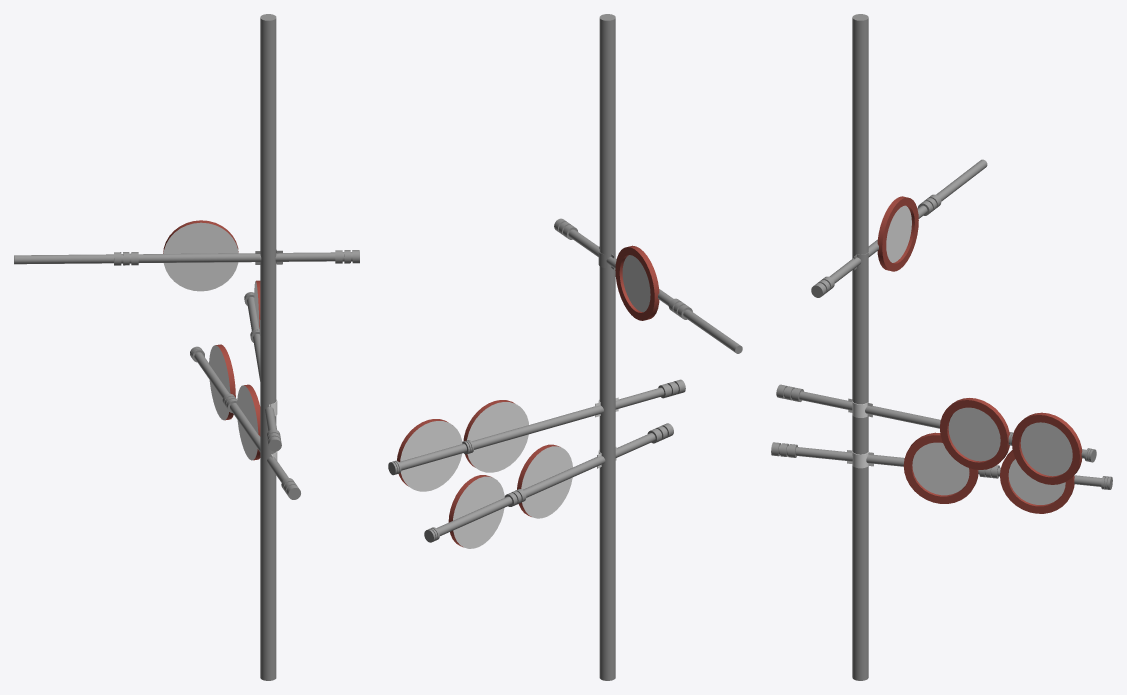
The model's file is UI演示.fbx.
3 renders of one model, left to right at view 1: azimuth 30°, elevation 25°; view 2: azimuth 150°, elevation 25°; view 3: azimuth 270°, elevation 25°, orthographic.
Parts seen in each view (by area): view 1: Cylinder, Cylinder.001, Cylinder.003, Cylinder.007, Cylinder.009, Cylinder.008, Cylinder.004; view 2: Cylinder, Cylinder.006, Cylinder.005, Cylinder.004, Cylinder.007, Cylinder.009, Cylinder.008, Cylinder.001, Cylinder.003; view 3: Cylinder, Cylinder.006, Cylinder.005, Cylinder.008, Cylinder.009, Cylinder.001, Cylinder.007, Cylinder.004, Cylinder.003.
Part boxes in pixels (left/top/right/bottom): Cylinder: left=260, top=14, right=276, bottom=680; Cylinder.001: left=163, top=220, right=238, bottom=291; Cylinder.003: left=14, top=250, right=359, bottom=265; Cylinder.007: left=190, top=346, right=300, bottom=499; Cylinder.009: left=209, top=344, right=235, bottom=420; Cylinder.008: left=237, top=384, right=260, bottom=460; Cylinder.004: left=244, top=292, right=281, bottom=451; Cylinder: left=599, top=14, right=615, bottom=680; Cylinder.006: left=397, top=419, right=462, bottom=491; Cylinder.005: left=463, top=400, right=528, bottom=472; Cylinder.004: left=388, top=379, right=685, bottom=475; Cylinder.007: left=424, top=423, right=673, bottom=542; Cylinder.009: left=448, top=475, right=504, bottom=548; Cylinder.008: left=517, top=444, right=572, bottom=518; Cylinder.001: left=615, top=245, right=659, bottom=320; Cylinder.003: left=554, top=218, right=742, bottom=353; Cylinder: left=852, top=14, right=868, bottom=680; Cylinder.006: left=1012, top=412, right=1082, bottom=484; Cylinder.005: left=940, top=398, right=1009, bottom=469; Cylinder.008: left=903, top=432, right=978, bottom=503; Cylinder.009: left=1000, top=450, right=1074, bottom=513; Cylinder.001: left=877, top=196, right=918, bottom=271; Cylinder.007: left=771, top=442, right=1112, bottom=489; Cylinder.004: left=776, top=384, right=1096, bottom=462; Cylinder.003: left=811, top=159, right=987, bottom=297.
Size of the model in its own units: 405 by 855 by 401.
